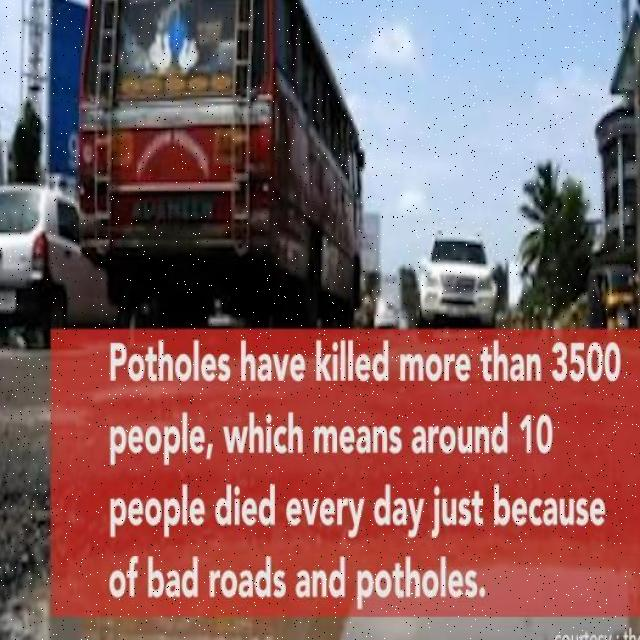pothole: (0, 536, 640, 640)
